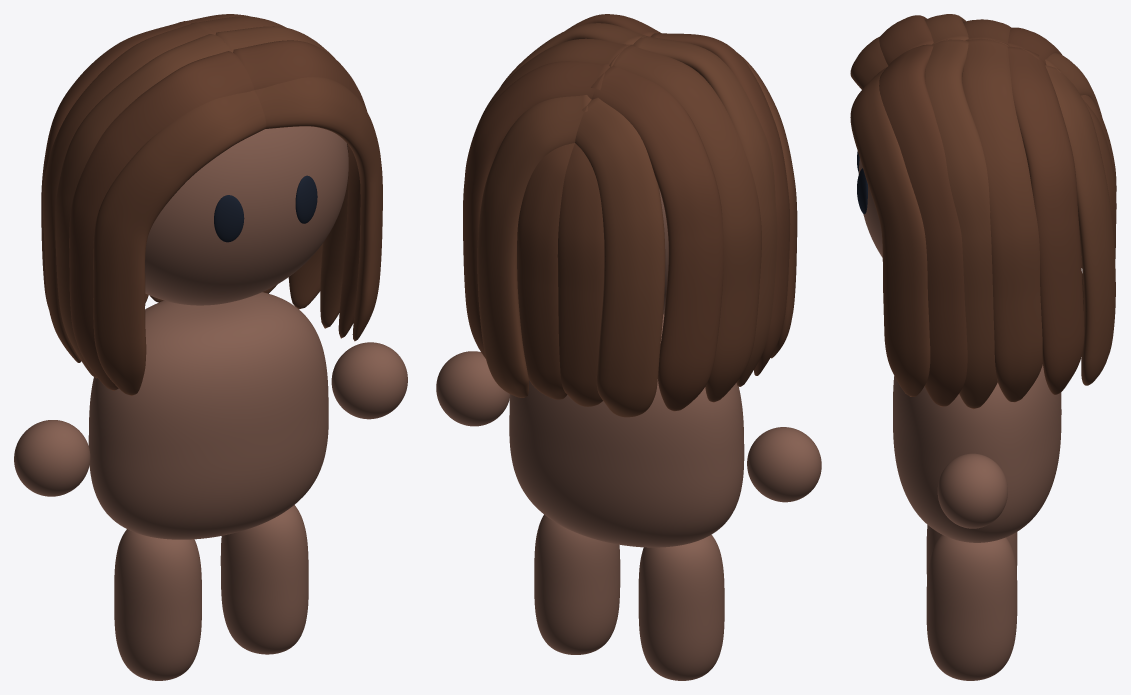
Rendered from Feminine-skin3.glb.
3 renders of one model, left to right at view 1: azimuth 30°, elevation 25°; view 2: azimuth 150°, elevation 25°; view 3: azimuth 270°, elevation 25°, orthographic. The views are drawn at different scales.
Visible parts, largest first — view 1: Skin / compact torso with skirt outline, Skin / soft oval head, Hair / Straight -1 0, Hair / Straight -1 1, Skin / leg -1, Skin / leg 1, Hair / Straight 1 0, Hair / Straight -1 2, Hair / Straight 1 1, Hair / Straight -1 3, Skin / hand 1, Skin / hand -1 (+5 smaller); view 2: Skin / compact torso with skirt outline, Hair / Straight -1 4, Hair / Straight -1 5, Hair / Straight -1 3, Hair / Straight 1 5, Skin / leg -1, Hair / Straight -1 6, Skin / leg 1, Hair / Straight 1 6, Hair / Straight 1 4, Hair / Straight -1 2, Hair / Straight -1 1 (+6 smaller); view 3: Skin / compact torso with skirt outline, Hair / Straight 1 3, Hair / Straight 1 4, Hair / Straight 1 1, Hair / Straight 1 0, Hair / Straight 1 2, Skin / leg 1, Hair / Straight 1 5, Skin / hand 1, Hair / Straight -1 1, Hair / Straight -1 0, Hair / Straight 1 6 (+7 smaller).
Boxes of the visible parts, <box> form: Skin / compact torso with skirt outline: <box>88,292,328,539</box>; Skin / soft oval head: <box>145,126,348,305</box>; Hair / Straight -1 0: <box>93,90,266,395</box>; Hair / Straight -1 1: <box>69,51,254,390</box>; Skin / leg -1: <box>114,529,201,680</box>; Skin / leg 1: <box>220,505,308,654</box>; Hair / Straight 1 0: <box>254,77,382,341</box>; Hair / Straight -1 2: <box>55,34,231,378</box>; Hair / Straight 1 1: <box>233,40,366,338</box>; Hair / Straight -1 3: <box>43,22,214,362</box>; Skin / hand 1: <box>331,342,407,419</box>; Skin / hand -1: <box>14,420,90,496</box>; Skin / compact torso with skirt outline: <box>509,314,744,547</box>; Hair / Straight -1 4: <box>591,65,723,411</box>; Hair / Straight -1 5: <box>575,97,665,417</box>; Hair / Straight -1 3: <box>609,44,761,402</box>; Hair / Straight 1 5: <box>477,95,591,397</box>; Skin / leg -1: <box>638,534,724,680</box>; Hair / Straight -1 6: <box>557,143,604,406</box>; Skin / leg 1: <box>534,514,620,654</box>; Hair / Straight 1 6: <box>517,143,574,399</box>; Hair / Straight 1 4: <box>463,61,609,358</box>; Hair / Straight -1 2: <box>633,36,777,386</box>; Hair / Straight -1 1: <box>650,33,790,375</box>; Skin / compact torso with skirt outline: <box>893,364,1061,542</box>; Hair / Straight 1 3: <box>962,38,1042,402</box>; Hair / Straight 1 4: <box>1007,46,1084,394</box>; Hair / Straight 1 1: <box>879,44,967,406</box>; Hair / Straight 1 0: <box>850,67,930,396</box>; Hair / Straight 1 2: <box>925,39,997,409</box>; Skin / leg 1: <box>926,534,1017,680</box>; Hair / Straight 1 5: <box>1045,65,1115,385</box>; Skin / hand 1: <box>937,453,1007,528</box>; Hair / Straight -1 1: <box>879,15,933,65</box>; Hair / Straight -1 0: <box>850,37,888,89</box>; Hair / Straight 1 6: <box>1083,100,1116,259</box>.
Size of the model in its own units: 1.49 by 2.33 by 0.9212.
